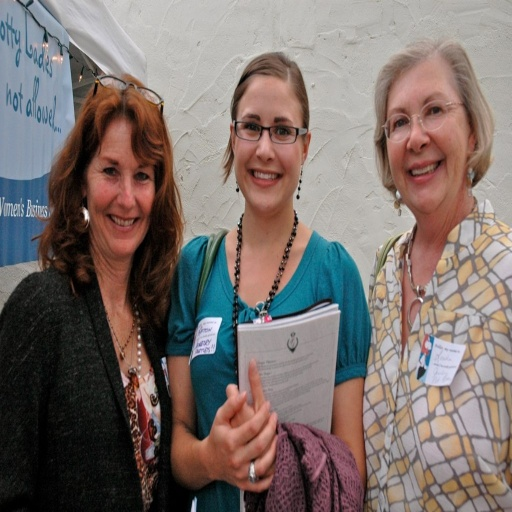hand: (225, 357, 278, 472)
